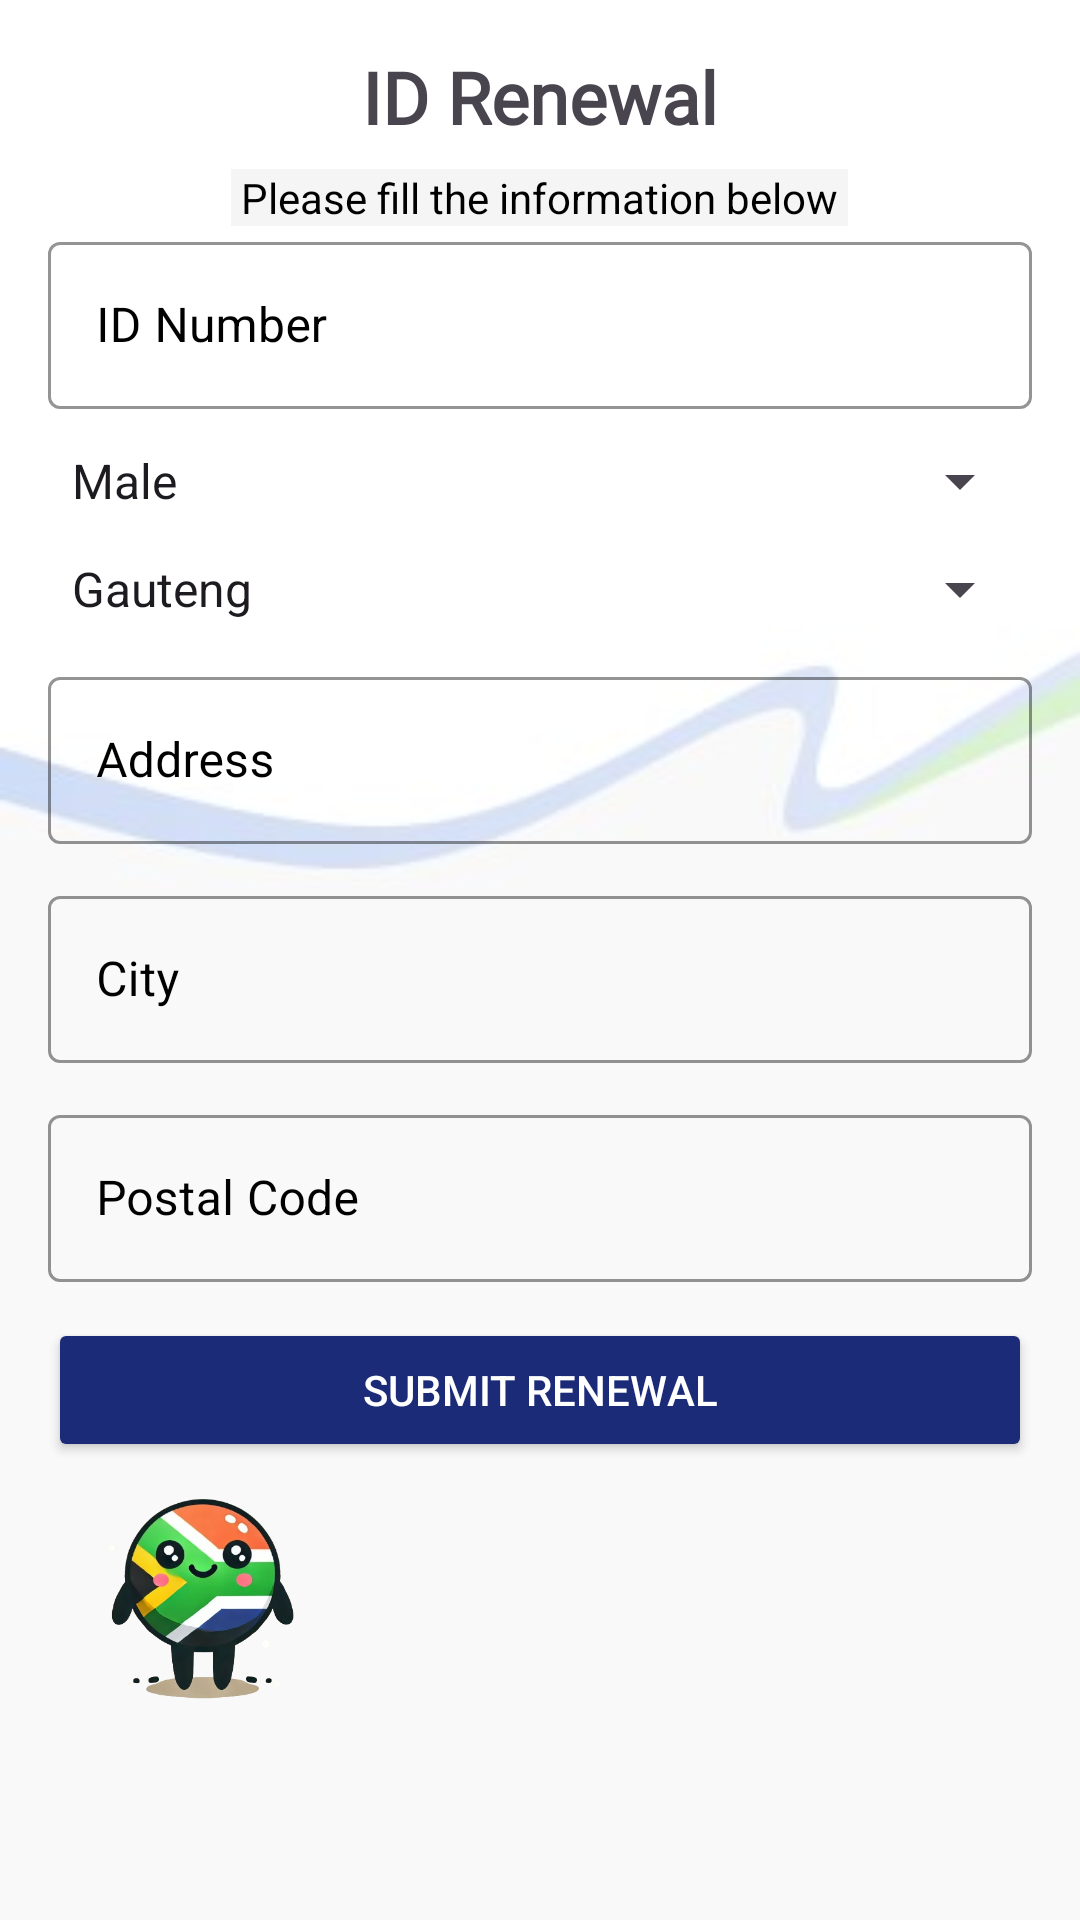

Where to tap for icons on this 1080x1920 app screen, as [x,y]:
mascot: [203,1599]
